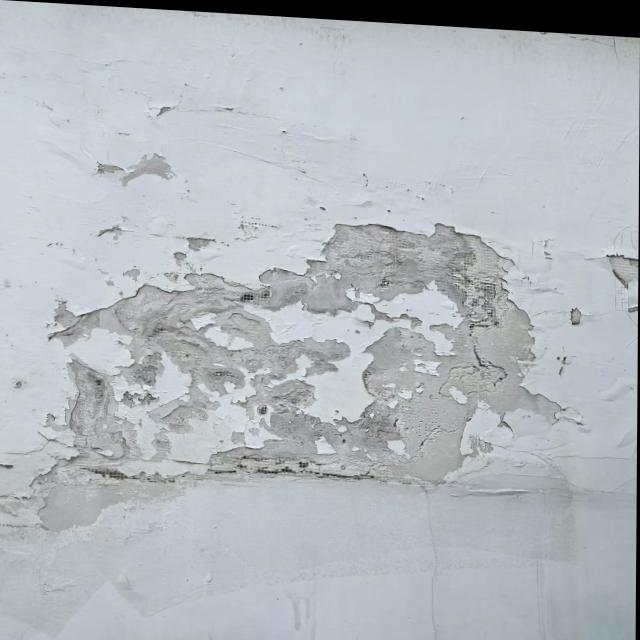spalling: (4, 206, 599, 554), (85, 145, 181, 190), (595, 245, 636, 330)
